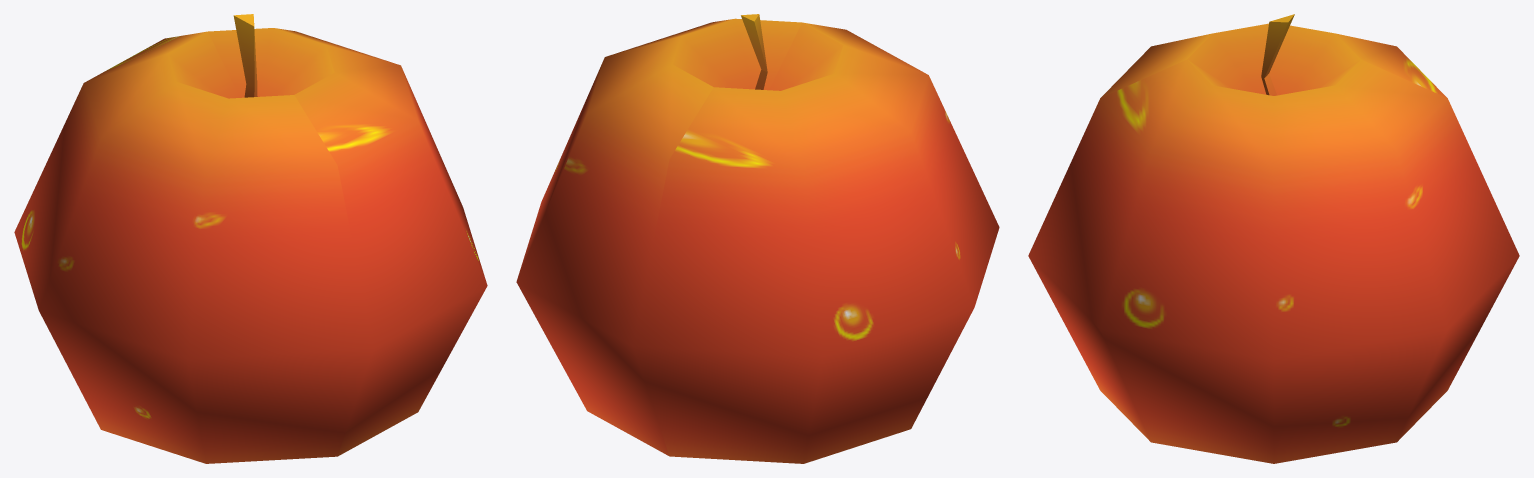
File: App.FBX
3 views of the same model, side by side, from view 1: azimuth 30°, elevation 25°; view 2: azimuth 150°, elevation 25°; view 3: azimuth 270°, elevation 25° (orthographic). The views are drawn at different scales.
Parts seen in each view (by area): view 1: apple; view 2: apple; view 3: apple.
Part boxes in pixels (x1,y1,x2,y2): apple: (14,14,487,463); apple: (516,14,999,463); apple: (1028,14,1519,463).
Bounding box in the file's own units: 10.56 × 9.61 × 10.56.
